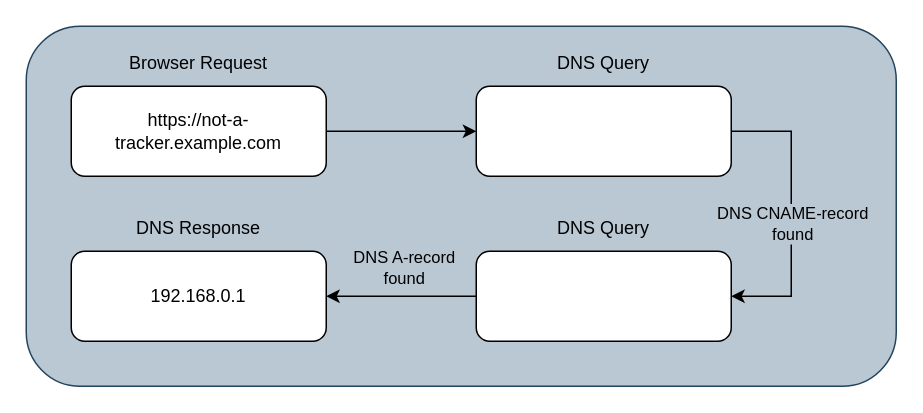
Image size: 923x413. Some labels were removed from this diagram. Here are the shapes that lost their labels. From the top down, the centre of each, then its label:
At (603,130): "not-a-tracker.example.com".
At (603,295): "tracker.example.com".
